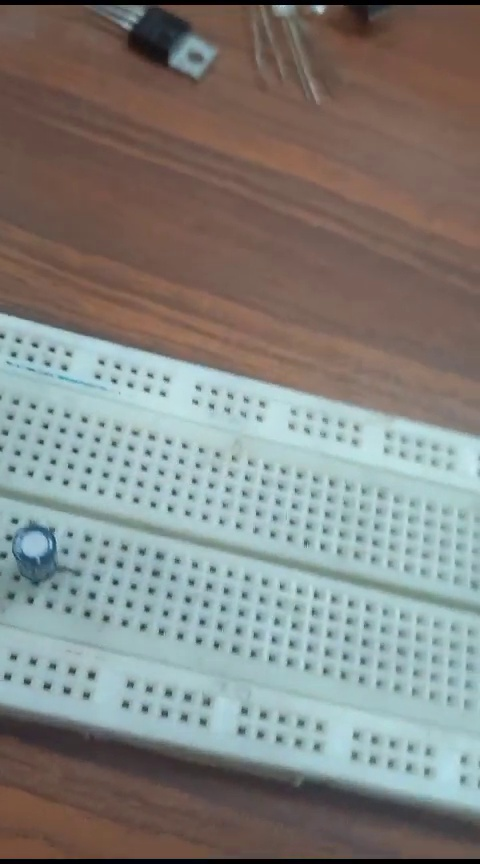capacitor: (13, 512, 57, 580)
